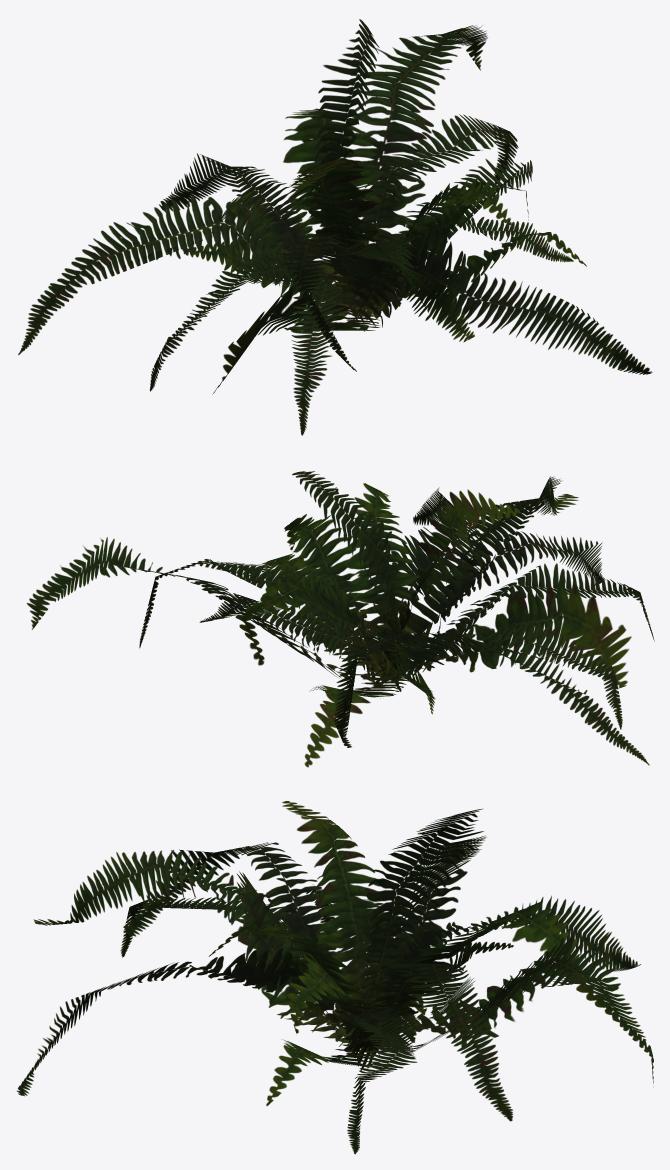
Rendered from pine_fern_b.glb.
The picture shows the model from 3 angles, top to bottom: view 1: azimuth 30°, elevation 25°; view 2: azimuth 150°, elevation 25°; view 3: azimuth 270°, elevation 25°; orthographic projection. The views are drawn at different scales.
Parts seen in each view (by area): view 1: pine_fern_b; view 2: pine_fern_b; view 3: pine_fern_b.
Boxes of the visible parts, box(x1,y1,x2,y2) form: pine_fern_b: box(18, 19, 652, 435); pine_fern_b: box(26, 471, 654, 767); pine_fern_b: box(17, 801, 653, 1154).
Bounding box in the file's own units: 1.31 × 0.5692 × 1.14.
Materials: 1 (1 with a texture image).
